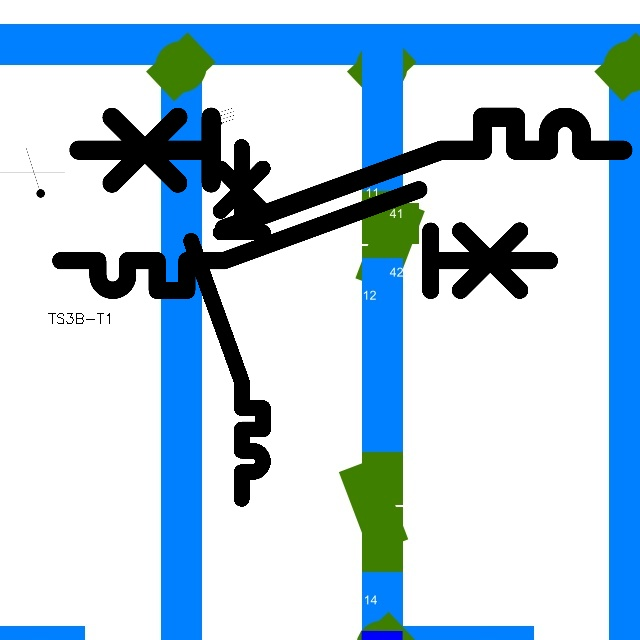interruptor_termomagnetico: (64, 103, 636, 243), (48, 177, 562, 303), (182, 137, 272, 507)
